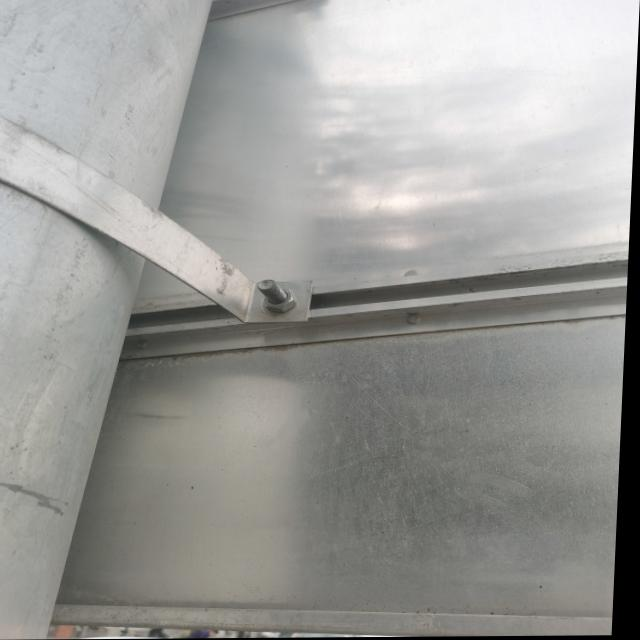Regular bolt: (266, 290, 301, 314)
